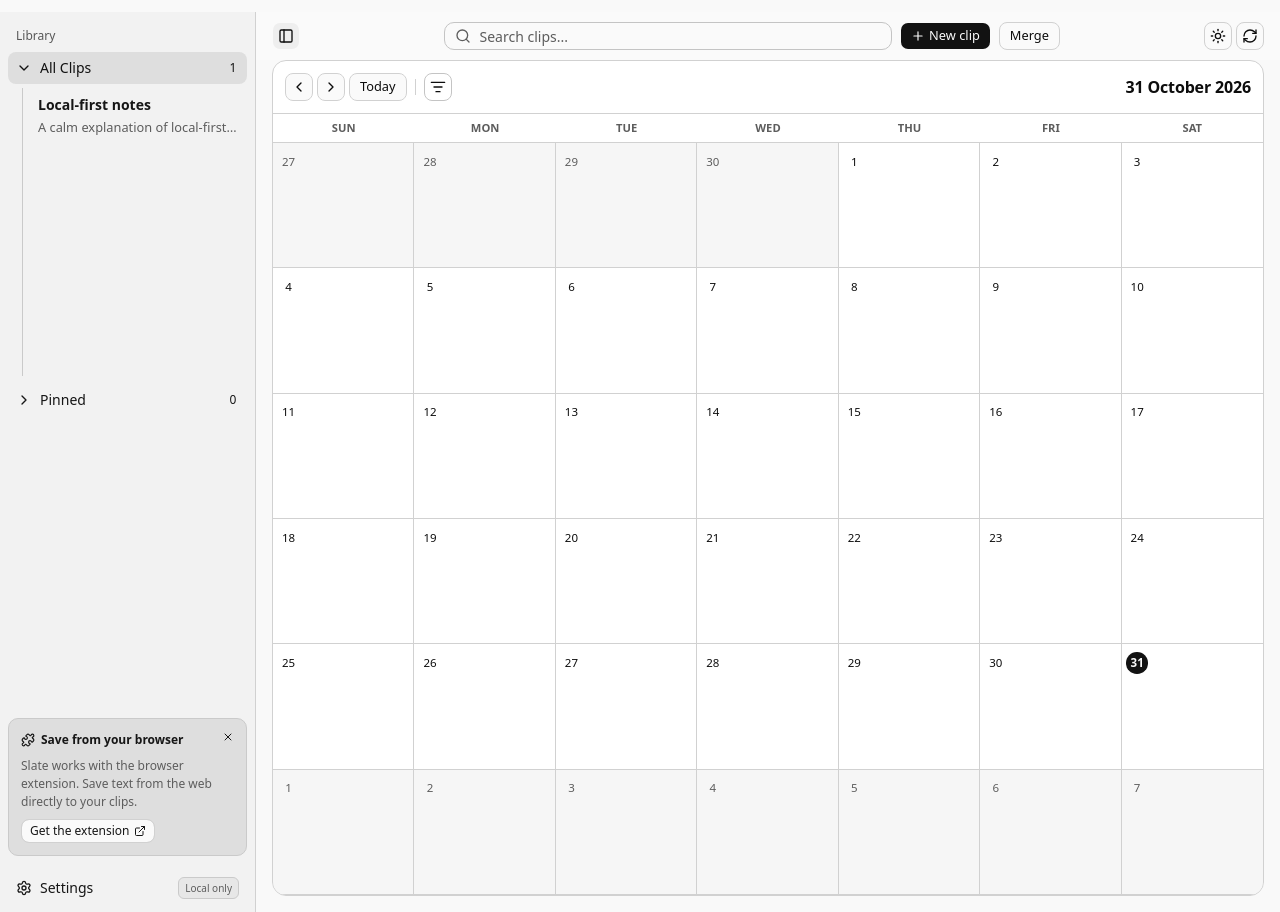
Test: App › a different operation clears the previous success instead of reporting it during failure
Click the button "A calm explanation of local-first software." at (138, 116), box [29, 88, 247, 144]
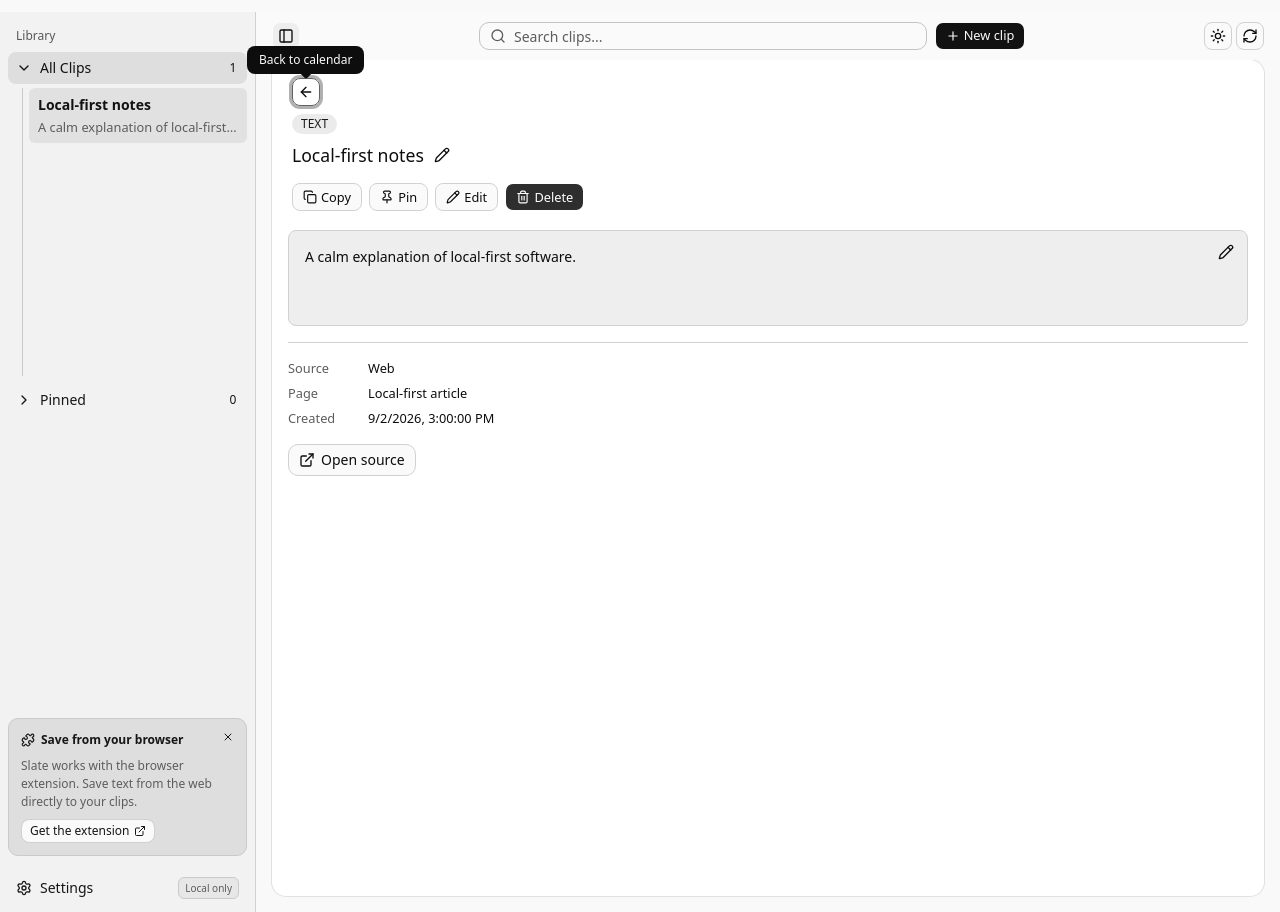
Click the button "Copy" at (327, 197), box [292, 183, 362, 211]
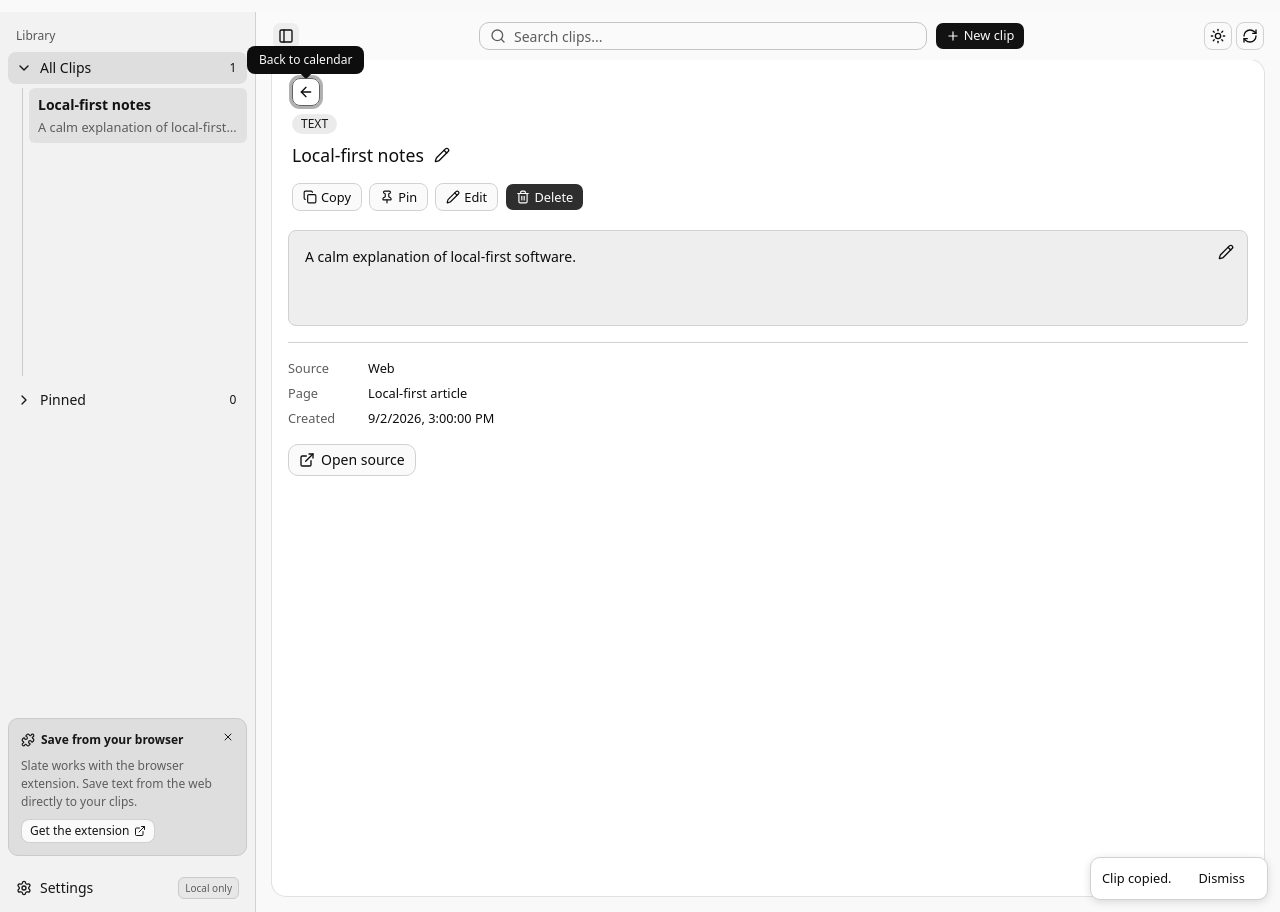
Result: the text "Clip copied." is shown at [1102, 869, 1172, 887]
Click the button "Open source" at (352, 460), box [288, 444, 416, 476]
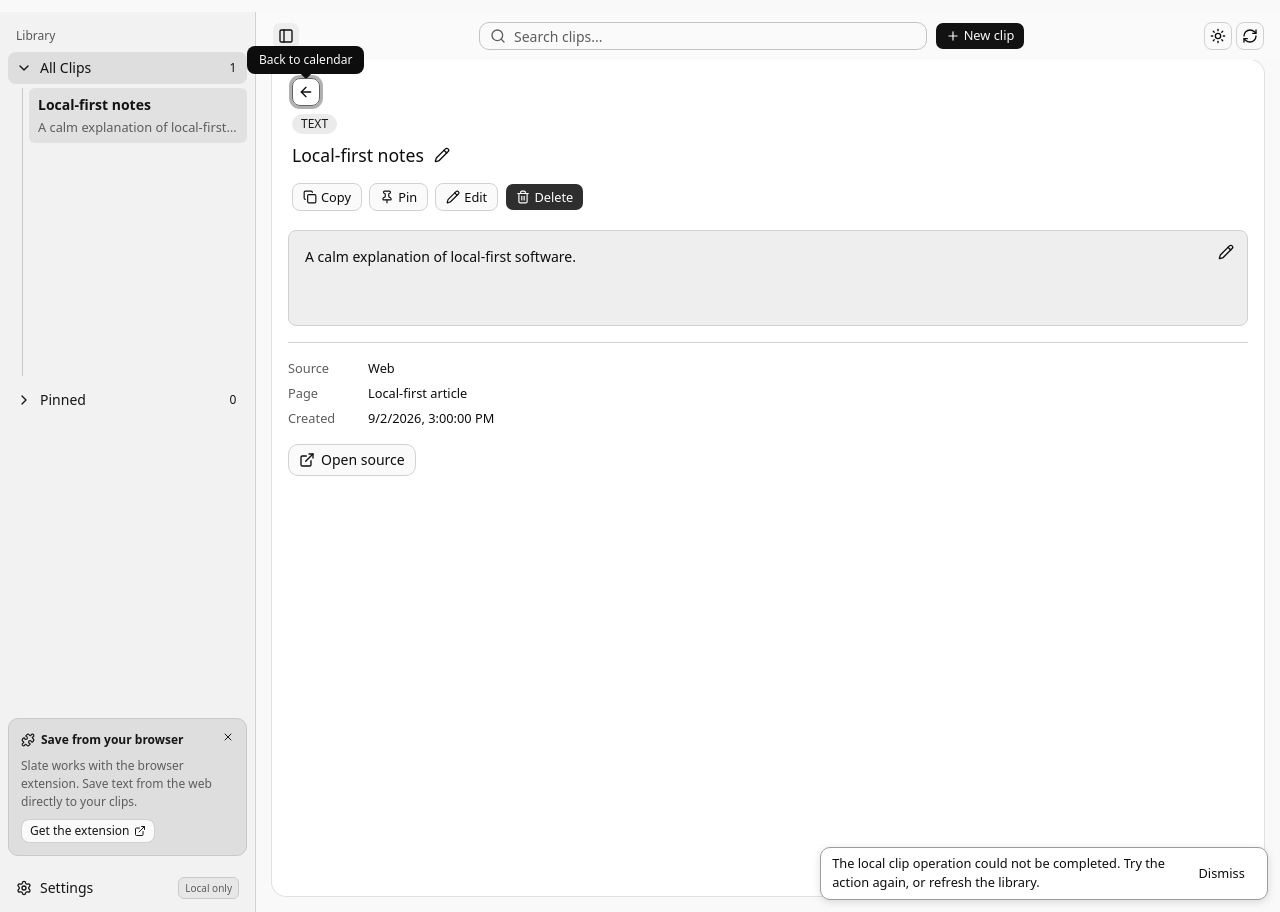
Result: the text "Clip copied." is gone
